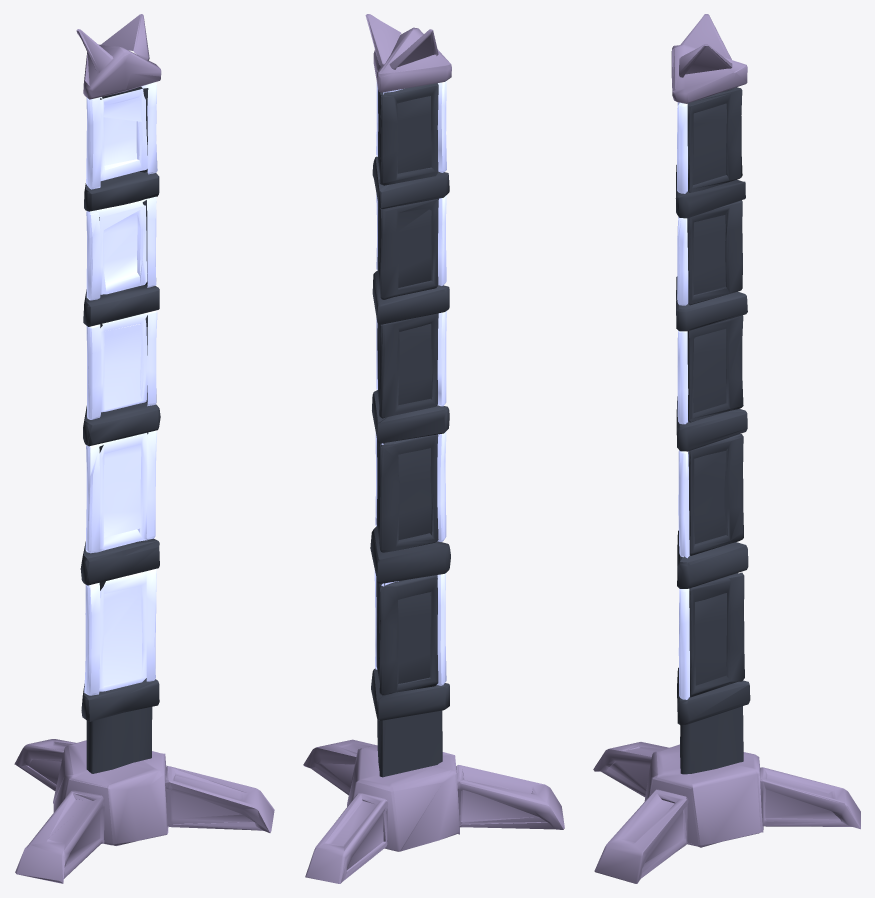
Rendered from gaming_light.glb.
3 views of the same model, side by side, from view 1: azimuth 30°, elevation 25°; view 2: azimuth 150°, elevation 25°; view 3: azimuth 270°, elevation 25° (orthographic).
Bounding box in the file's own units: 0.78 × 2.29 × 0.7018.
